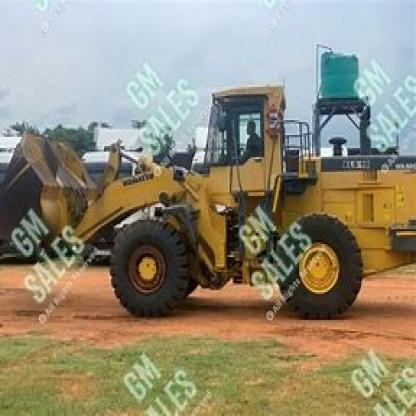bull_dozer/loader/grader: (1, 76, 414, 329)
